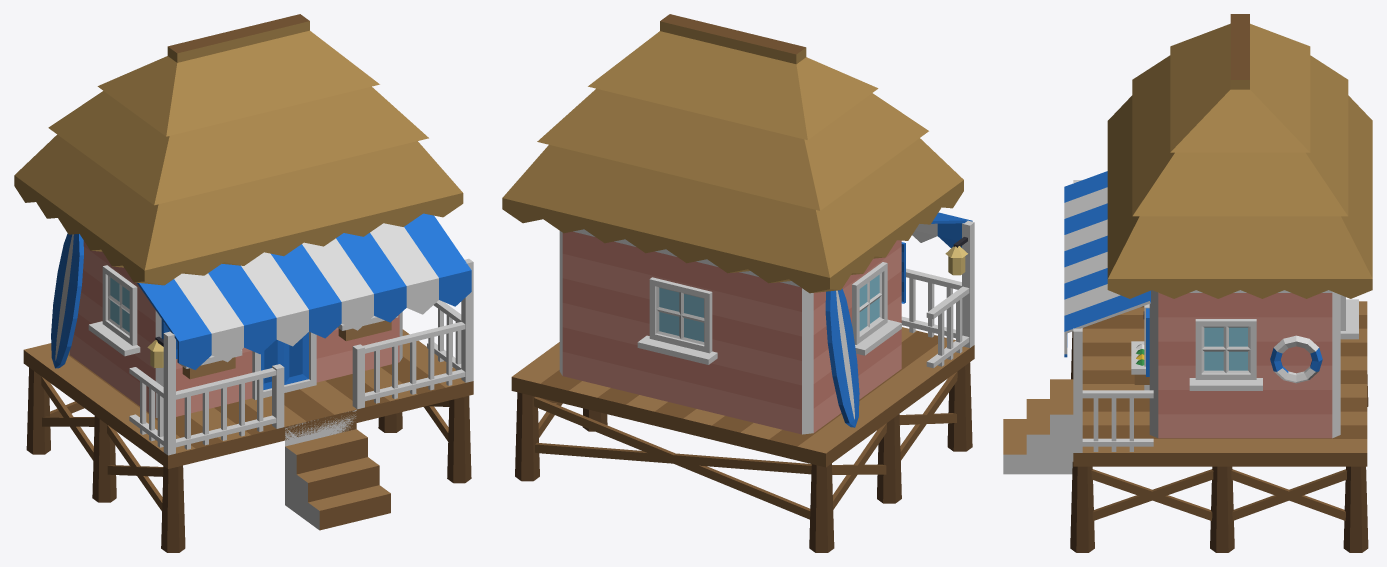
File: beach-house-2.glb
The picture shows the model from 3 angles, left to right: view 1: azimuth 30°, elevation 25°; view 2: azimuth 150°, elevation 25°; view 3: azimuth 270°, elevation 25°; orthographic projection. The views are drawn at different scales.
Parts seen in each view (by area): view 1: BeachHouse2; view 2: BeachHouse2; view 3: BeachHouse2.
Boxes of the visible parts, bbox=[...] form: BeachHouse2: bbox=[14, 14, 473, 552]; BeachHouse2: bbox=[502, 14, 974, 552]; BeachHouse2: bbox=[1003, 14, 1372, 552].
Bounding box in the file's own units: 4.9 × 6.22 × 4.84.
